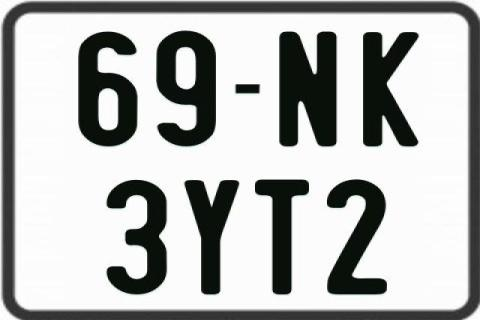0: (75, 30, 140, 146), (104, 179, 166, 296), (326, 178, 387, 296), (155, 31, 216, 147)
K: (363, 30, 419, 144)
N: (277, 30, 339, 150)
T: (253, 178, 314, 292)
Y: (182, 178, 240, 294)
